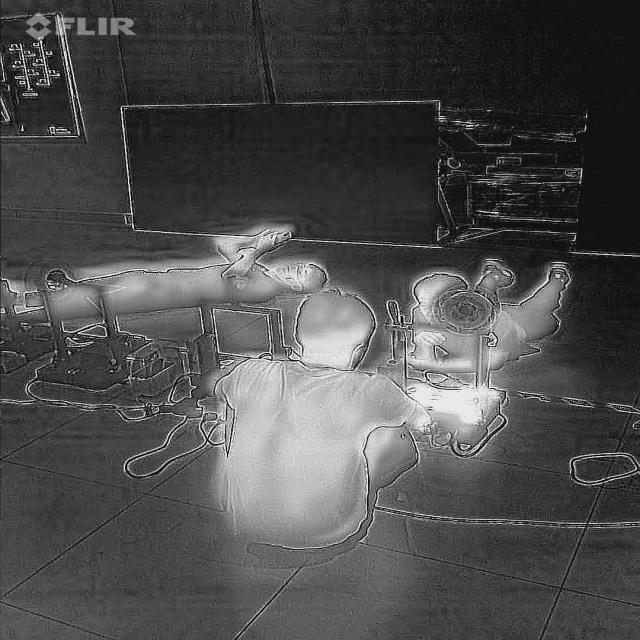Victim: (210, 277, 433, 567), (0, 221, 333, 330), (397, 250, 578, 378)
